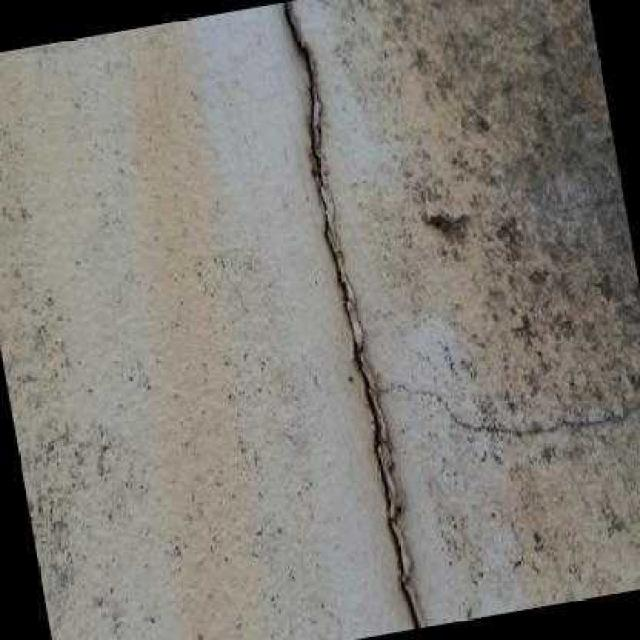D00: (283, 1, 419, 628)
